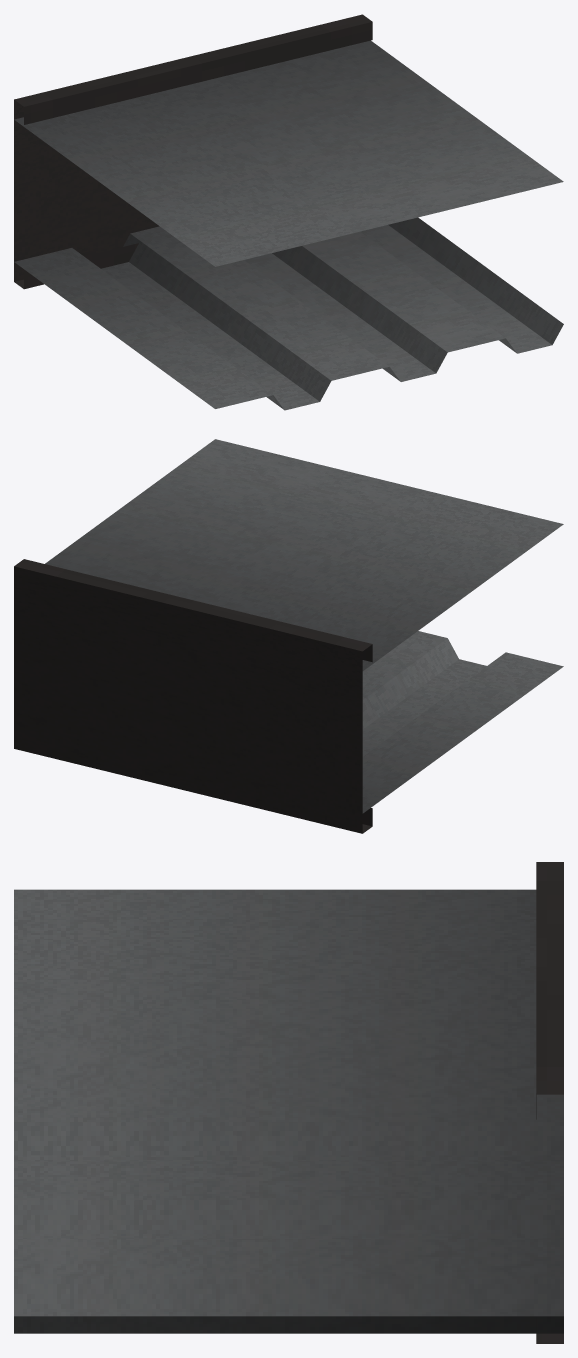
Rendered from GasRoof_7.glb.
3 renders of one model, top to bottom at view 1: azimuth 30°, elevation 25°; view 2: azimuth 150°, elevation 25°; view 3: azimuth 270°, elevation 25°, orthographic. The views are drawn at different scales.
Parts seen in each view (by area): view 1: GasRoof_7.001; view 2: GasRoof_7.001; view 3: GasRoof_7.001.
Part boxes in pixels (x1,y1,x2,y2): GasRoof_7.001: (14,14,563,410); GasRoof_7.001: (14,439,563,833); GasRoof_7.001: (14,862,563,1343).
Size of the model in its own units: 2 by 1 by 2.
1 material, 1 textured.
